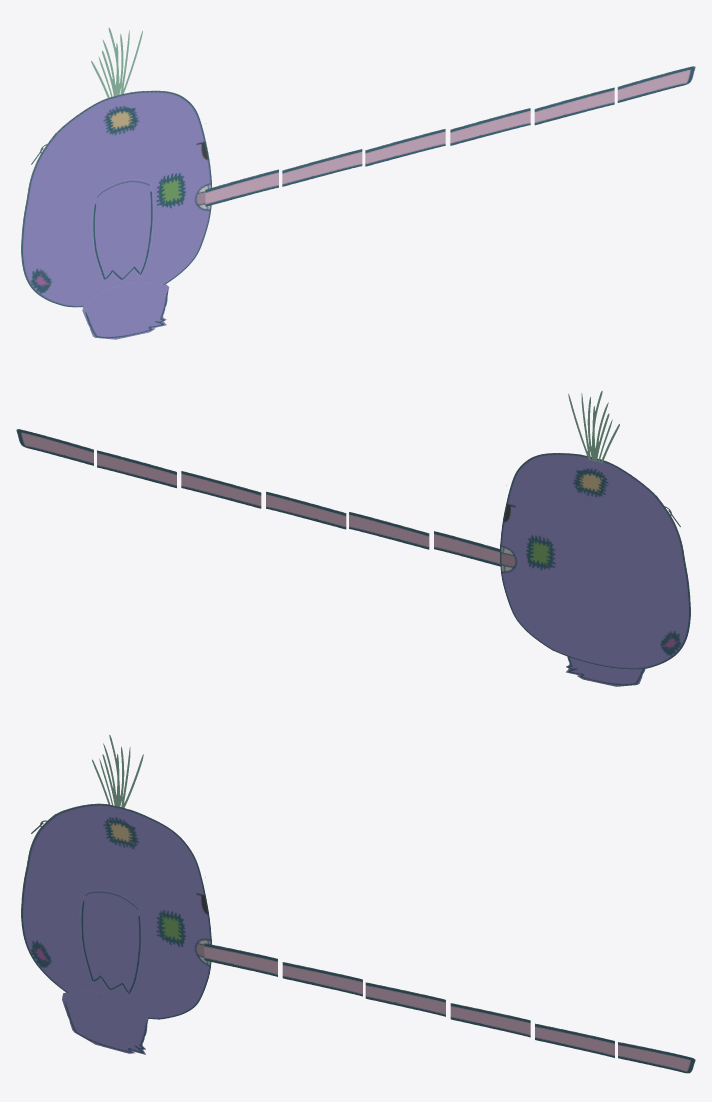
Rendered from suteppi_5.FBX.
The picture shows the model from 3 angles, top to bottom: view 1: azimuth 30°, elevation 25°; view 2: azimuth 150°, elevation 25°; view 3: azimuth 330°, elevation 25°; orthographic projection.
Visible parts, largest first — view 1: Plane005, Plane002, Plane003, Plane010, Plane008, Plane009, Plane011, Plane006, Plane007, Plane004; view 2: Plane005, Plane010, Plane009, Plane008, Plane011, Plane003, Plane007, Plane006, Plane004; view 3: Plane005, Plane002, Plane003, Plane008, Plane010, Plane009, Plane011, Plane006, Plane007, Plane004.
Part boxes in pixels (box(x1,y1,x2,y2)): Plane005: box(21, 90, 211, 307); Plane002: box(91, 179, 153, 281); Plane003: box(82, 282, 169, 339); Plane010: box(450, 108, 530, 145); Plane008: box(282, 149, 362, 186); Plane009: box(365, 129, 445, 166); Plane011: box(534, 87, 614, 125); Plane006: box(205, 169, 278, 206); Plane007: box(617, 66, 695, 102); Plane004: box(91, 27, 142, 97); Plane005: box(500, 453, 690, 669); Plane010: box(181, 471, 261, 508); Plane009: box(266, 491, 346, 529); Plane008: box(349, 512, 429, 549); Plane011: box(97, 450, 176, 488); Plane003: box(566, 656, 645, 686); Plane007: box(16, 429, 93, 465); Plane006: box(434, 531, 500, 566); Plane004: box(568, 391, 619, 463); Plane005: box(21, 803, 211, 1019); Plane002: box(79, 890, 141, 996); Plane003: box(62, 990, 148, 1054); Plane008: box(282, 962, 362, 996); Plane010: box(450, 1003, 530, 1037); Plane009: box(365, 982, 445, 1016); Plane011: box(535, 1023, 614, 1057); Plane006: box(204, 943, 277, 976); Plane007: box(618, 1042, 695, 1073); Plane004: box(92, 735, 143, 807).
Size of the model in its own units: 91.19 by 39.33 by 2.46.
